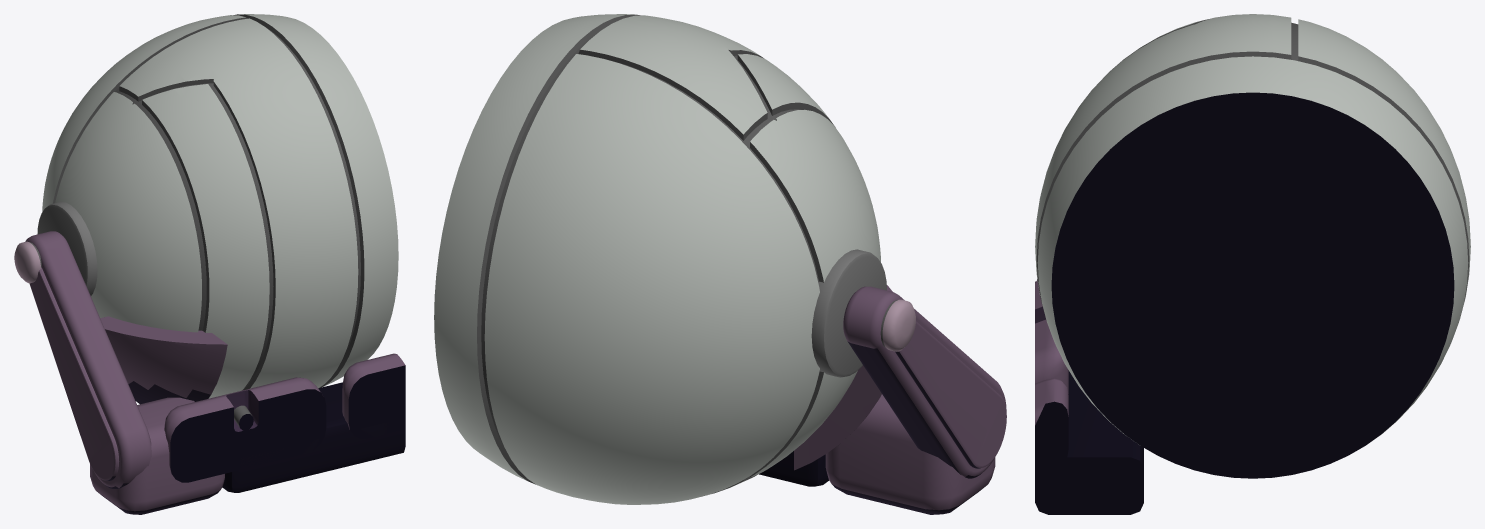
Rendered from ice_globe_tl.glb.
3 renders of one model, left to right at view 1: azimuth 30°, elevation 25°; view 2: azimuth 150°, elevation 25°; view 3: azimuth 270°, elevation 25°, orthographic. The views are drawn at different scales.
Parts seen in each view (by area): view 1: sphere.001, thigh.001, arm.001, cradle.001, pelvis.001, arm_panel.001, hip.001, thigh_r.001, hub.001, arm_cap.001; view 2: sphere.001, hip.001, arm.001, arm_panel.001, hub.001, cradle.001, arm_cap.001, pelvis.001; view 3: sphere.001, pelvis.001, thigh_r.001, thigh.001.
Part boxes in pixels (x1,y1,x2,y2): sphere.001: (42, 14, 398, 398); thigh.001: (164, 377, 326, 482); arm.001: (25, 231, 151, 488); cradle.001: (100, 316, 227, 404); pelvis.001: (222, 382, 405, 492); arm_panel.001: (29, 267, 119, 480); hip.001: (90, 397, 224, 514); thigh_r.001: (342, 353, 405, 438); hub.001: (37, 201, 97, 295); arm_cap.001: (14, 241, 40, 283); sphere.001: (434, 14, 880, 504); hip.001: (825, 394, 995, 514); arm.001: (843, 286, 1006, 478); arm_panel.001: (895, 321, 1006, 468); hub.001: (811, 249, 886, 377); cradle.001: (794, 285, 892, 470); arm_cap.001: (882, 299, 915, 351); pelvis.001: (759, 451, 828, 486); sphere.001: (1035, 14, 1470, 478); pelvis.001: (1035, 370, 1143, 514); thigh_r.001: (1035, 378, 1068, 479); thigh.001: (1035, 281, 1068, 393).
Size of the model in its own units: 23.5 by 29.05 by 26.
